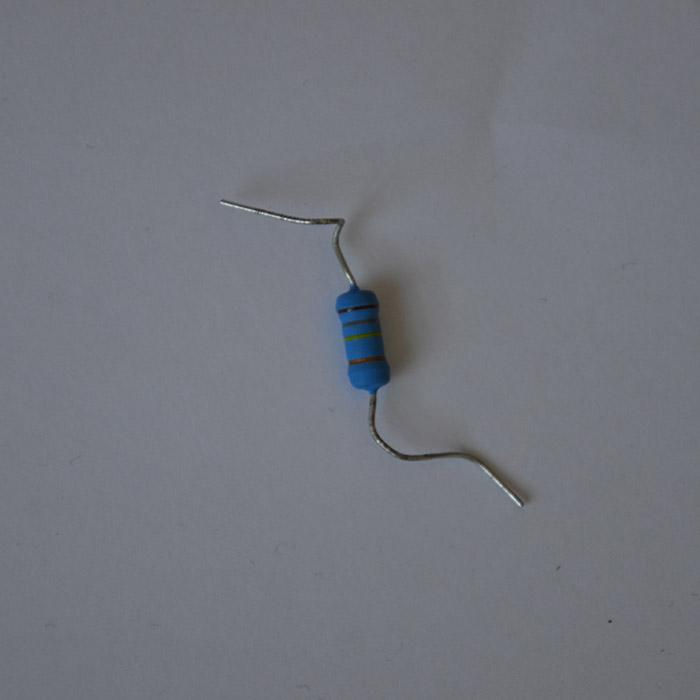resistor: (335, 284, 389, 392)
